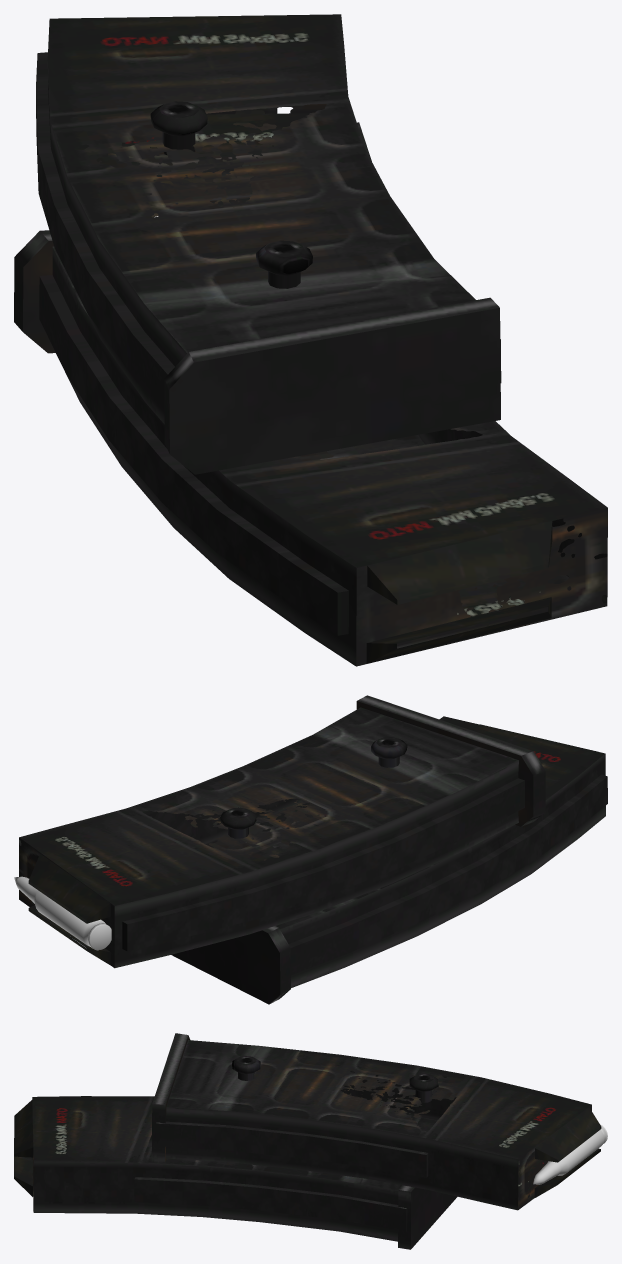
Rendered from t6_attach_fastmag_xm8_view_LOD0.obj.
3 renders of one model, top to bottom at view 1: azimuth 30°, elevation 25°; view 2: azimuth 150°, elevation 25°; view 3: azimuth 270°, elevation 25°, orthographic. The views are drawn at different scales.
Parts seen in each view (by area): view 1: mtl_t6_wpn_ar_xm8, mtl_t6_wpn_ar_xm8_camo3; view 2: mtl_t6_wpn_ar_xm8, mtl_t6_wpn_ar_xm8_camo3, mtl_t6_attach_bullet; view 3: mtl_t6_wpn_ar_xm8, mtl_t6_wpn_ar_xm8_camo3, mtl_t6_attach_bullet.
Boxes of the visible parts, x1,y1,x2,y2 form: mtl_t6_wpn_ar_xm8: (14,14,607,666); mtl_t6_wpn_ar_xm8_camo3: (36,96,312,413); mtl_t6_wpn_ar_xm8: (19,695,607,1004); mtl_t6_wpn_ar_xm8_camo3: (127,737,524,951); mtl_t6_attach_bullet: (14,876,111,950); mtl_t6_wpn_ar_xm8: (14,1033,601,1249); mtl_t6_wpn_ar_xm8_camo3: (155,1056,437,1177); mtl_t6_attach_bullet: (533,1124,607,1184).
Bounding box in the file's own units: 12.99 × 6.17 × 25.75.
